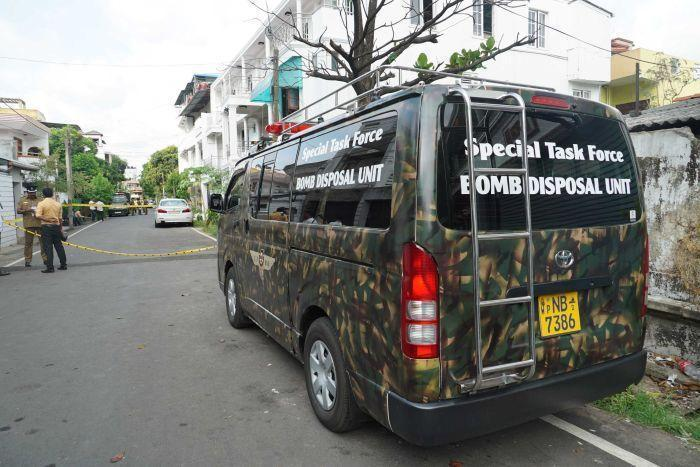license-plate: (536, 289, 581, 334)
